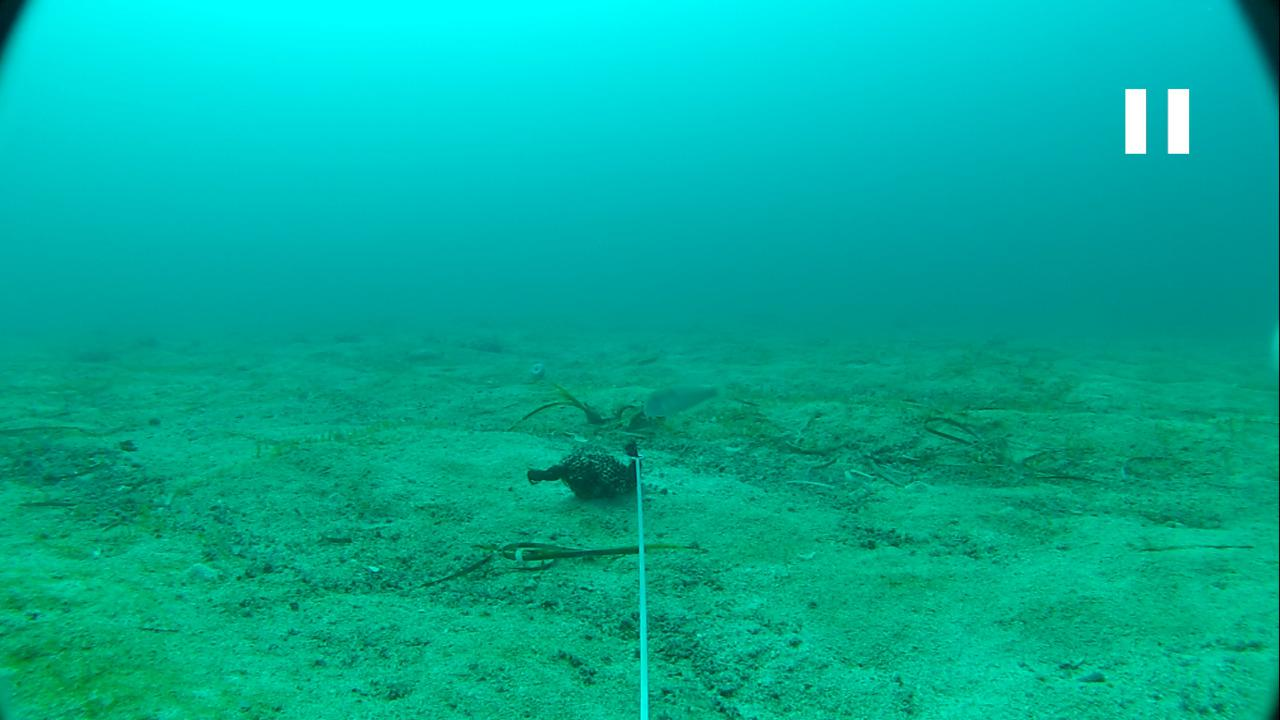raor: (635, 382, 723, 419)
